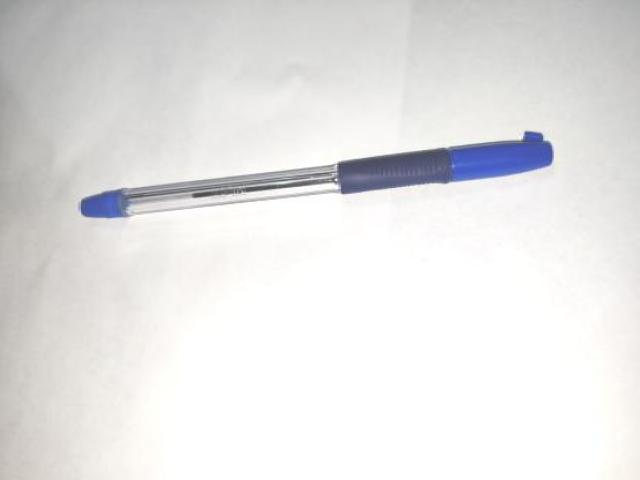PEN: (66, 121, 556, 227)
